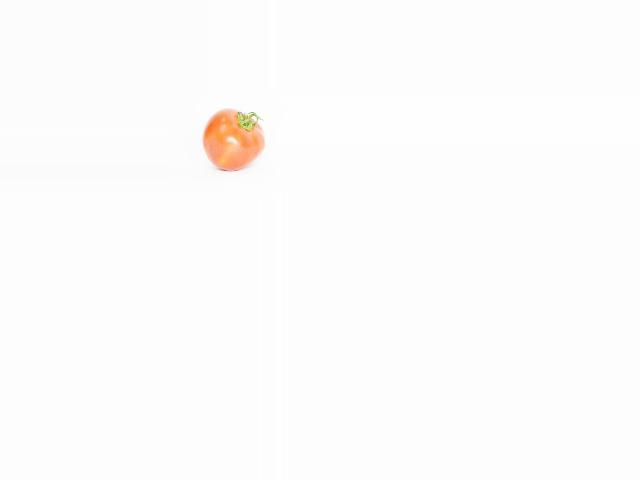tomato: (202, 107, 264, 171)
